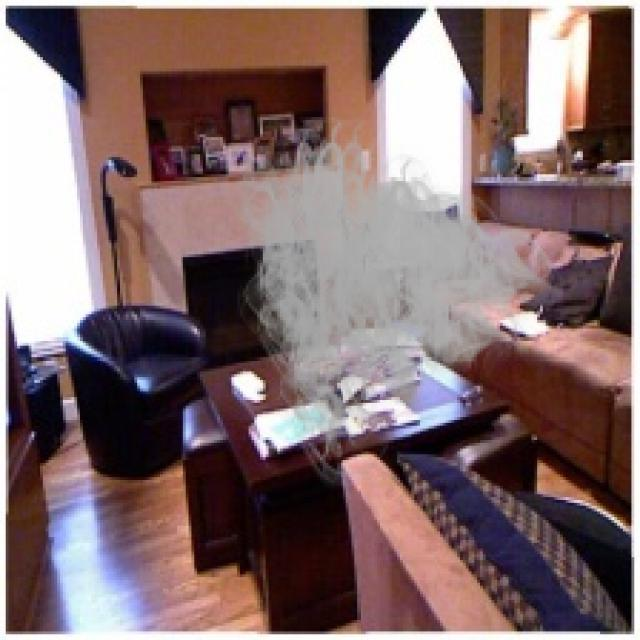smoke: (220, 106, 563, 491)
